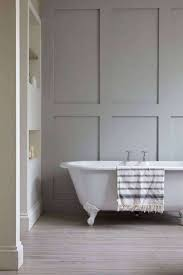bathub: (59, 155, 183, 226)
